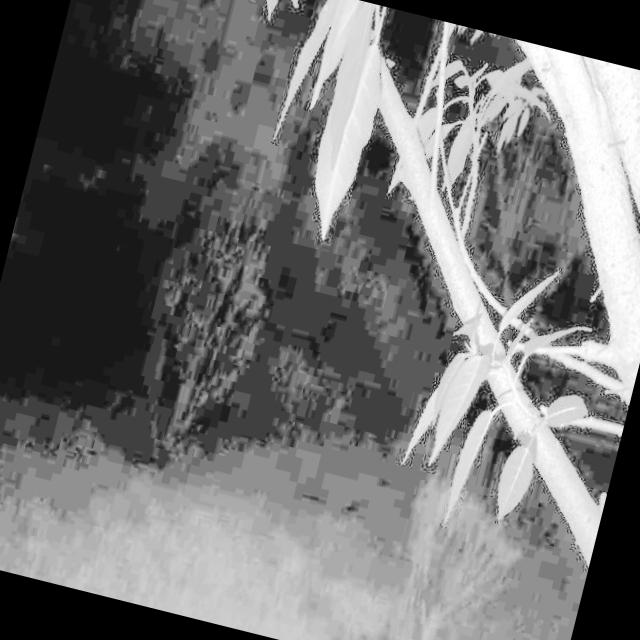Tree: (313, 20, 640, 594)
